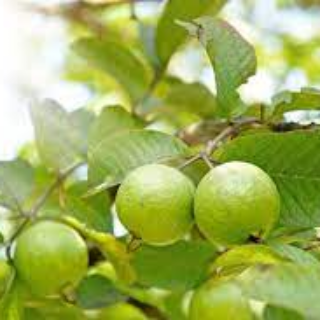oi: (113, 163, 201, 252), (195, 160, 284, 246), (8, 214, 92, 304)
